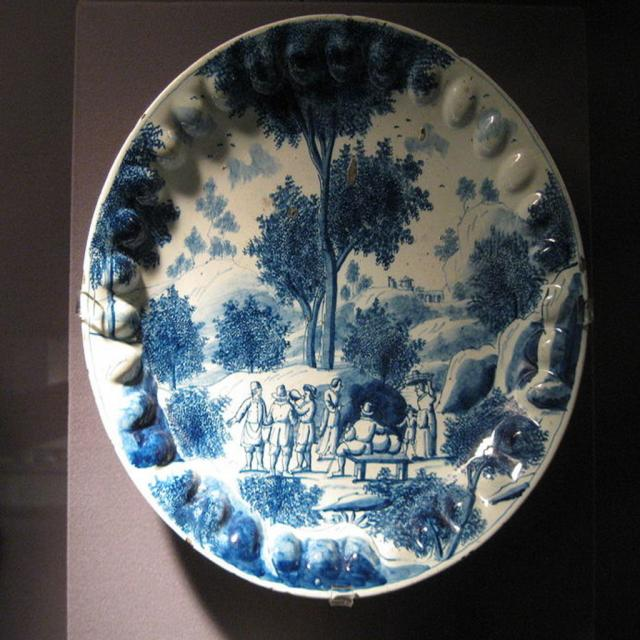non-organic waste: (99, 0, 576, 614)
